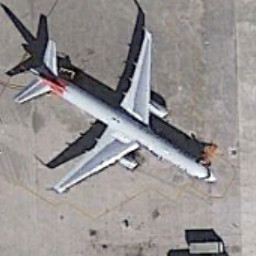Airplane: (7, 17, 232, 216)
